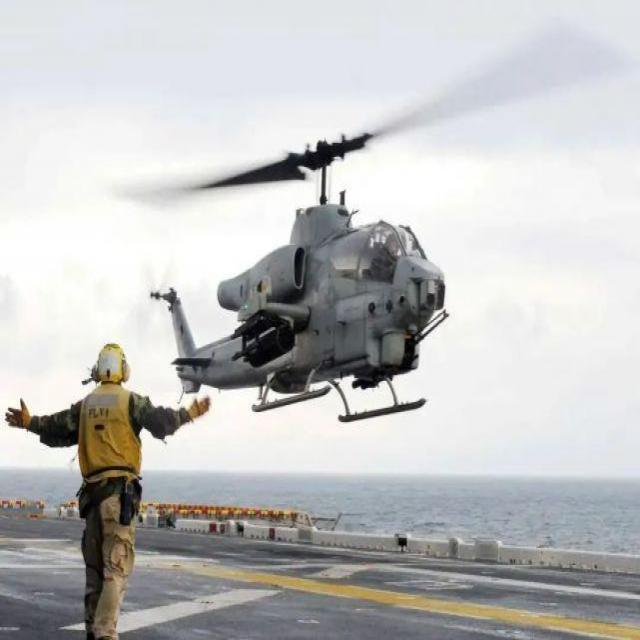MIL_HELO: (106, 12, 624, 436)
